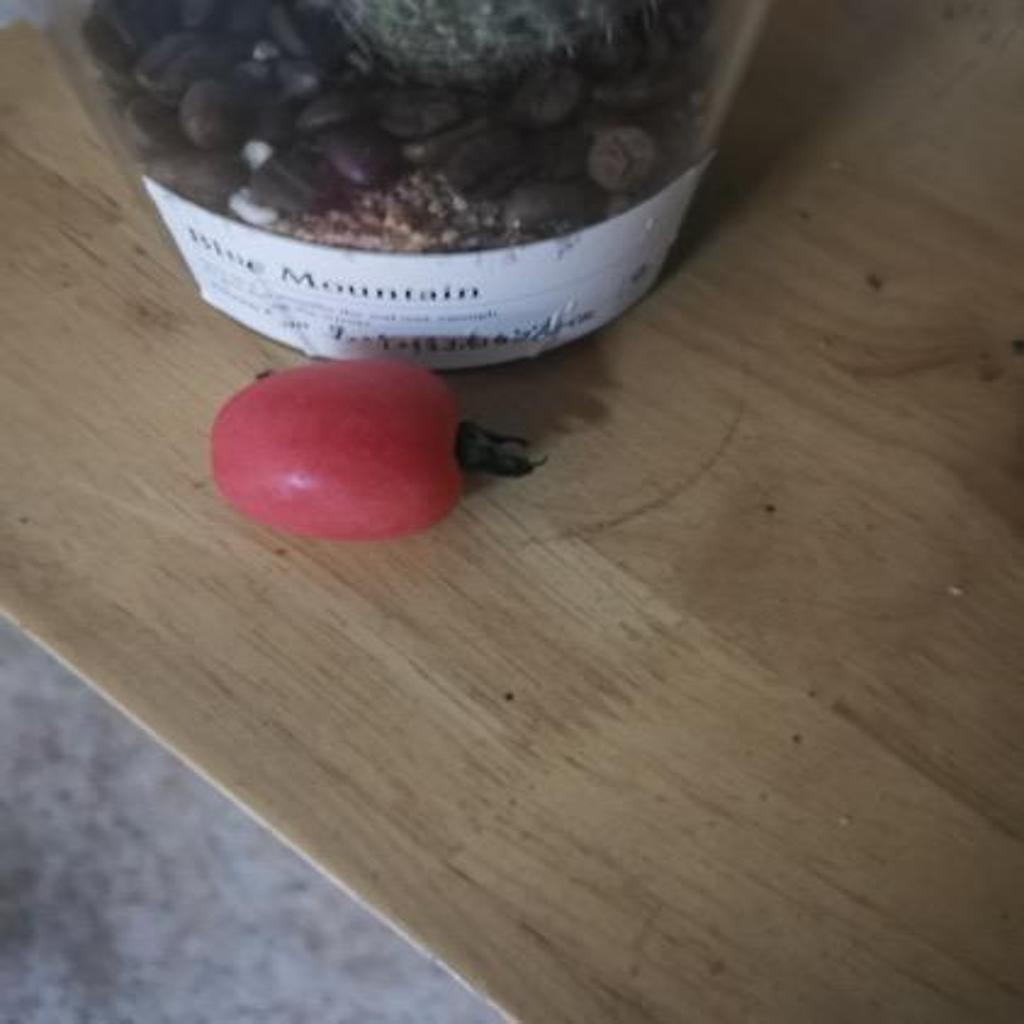tomato: (196, 357, 513, 549)
